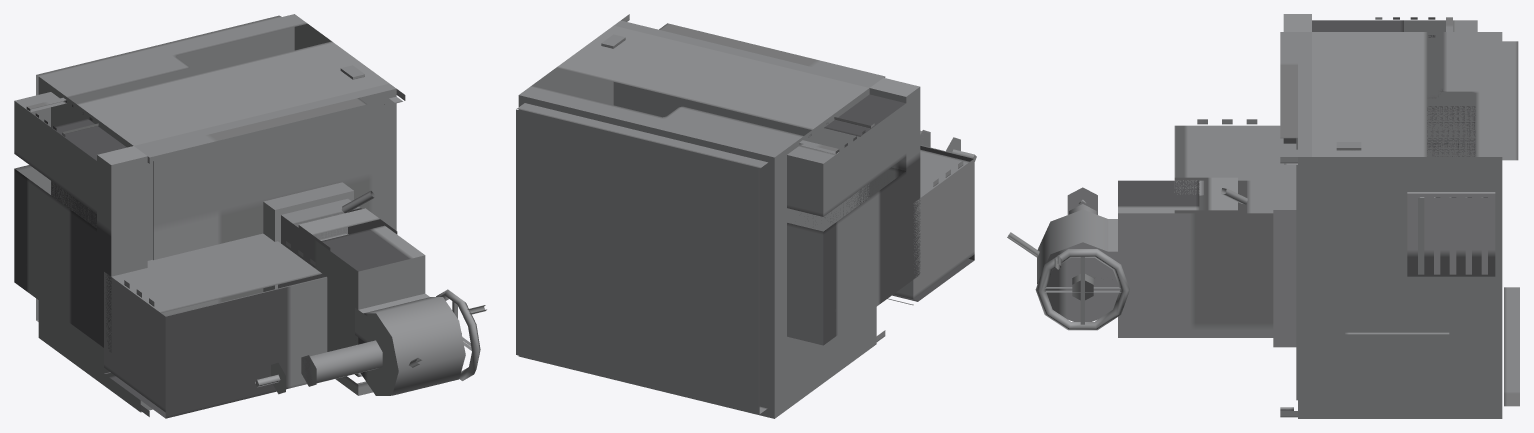
The picture shows the model from 3 angles, left to right: view 1: azimuth 30°, elevation 25°; view 2: azimuth 150°, elevation 25°; view 3: azimuth 270°, elevation 25°; orthographic projection.
Size of the model in its own units: 0.977 by 0.83 by 1.46.
